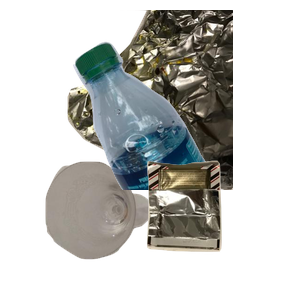glass: (43, 159, 187, 300)
metal: (60, 10, 300, 190)
plastic: (71, 39, 300, 219)
trash: (144, 158, 300, 300)
